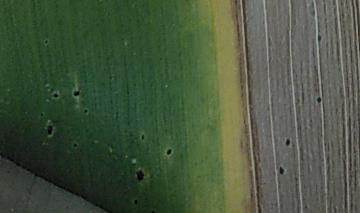tarspot: (134, 168, 147, 184), (45, 121, 55, 137), (314, 93, 324, 106), (164, 147, 174, 158), (284, 137, 294, 148), (72, 88, 81, 99), (277, 166, 286, 176), (316, 34, 324, 45), (51, 91, 61, 99), (139, 133, 147, 143), (81, 107, 90, 115), (72, 142, 80, 150), (43, 38, 50, 47), (132, 198, 140, 205), (40, 112, 45, 118)
